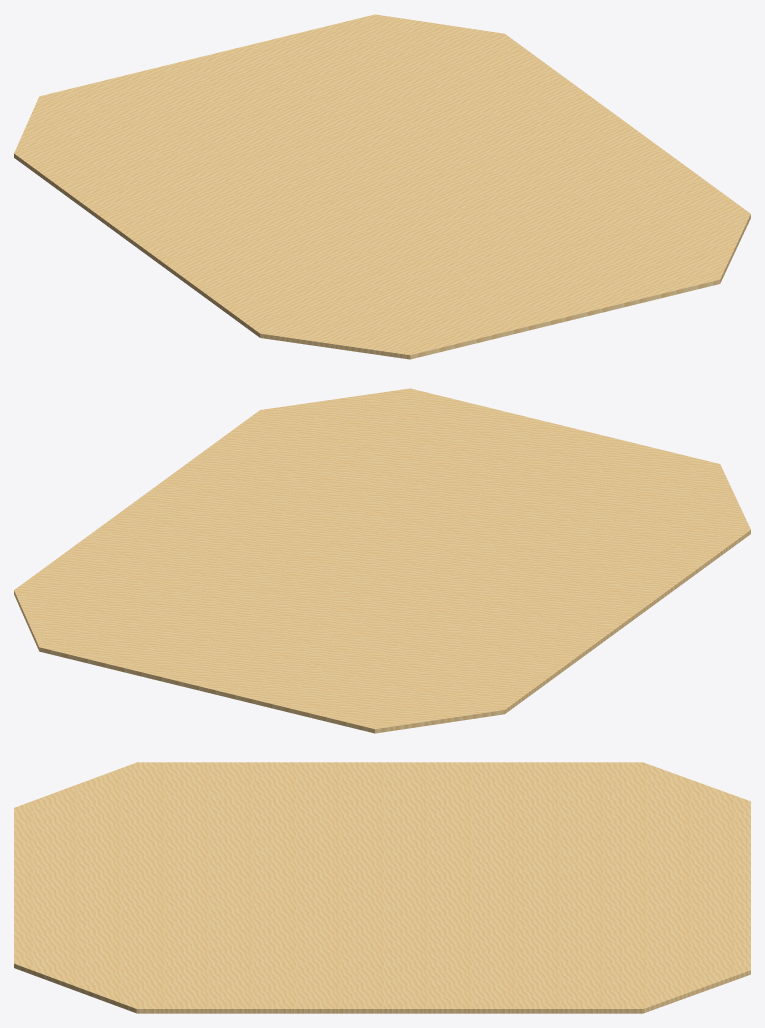
File: seabed-22-DeGvXeMs.glb
3 views of the same model, one above another, from view 1: azimuth 30°, elevation 25°; view 2: azimuth 150°, elevation 25°; view 3: azimuth 270°, elevation 25° (orthographic). The views are drawn at different scales.
Parts seen in each view (by area): view 1: SW_SandShelf; view 2: SW_SandShelf; view 3: SW_SandShelf.
Boxes of the visible parts, bbox=[...] form: SW_SandShelf: bbox=[14, 14, 750, 359]; SW_SandShelf: bbox=[14, 388, 750, 733]; SW_SandShelf: bbox=[14, 762, 750, 1013].
Size of what is drawn, in the model's own units: 38 by 0.32 by 48.
1 material, 1 textured.
